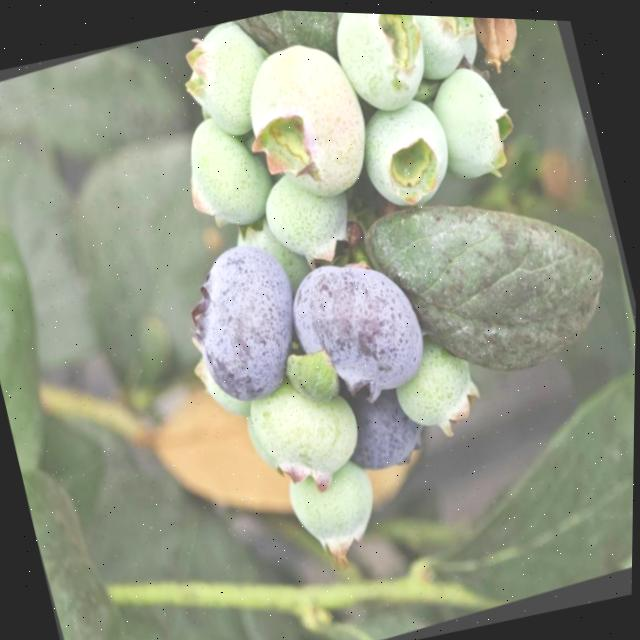RipeBlueBerry: (279, 234, 447, 422), (168, 224, 327, 420)
UnripeBlueBerry: (223, 21, 391, 220)
